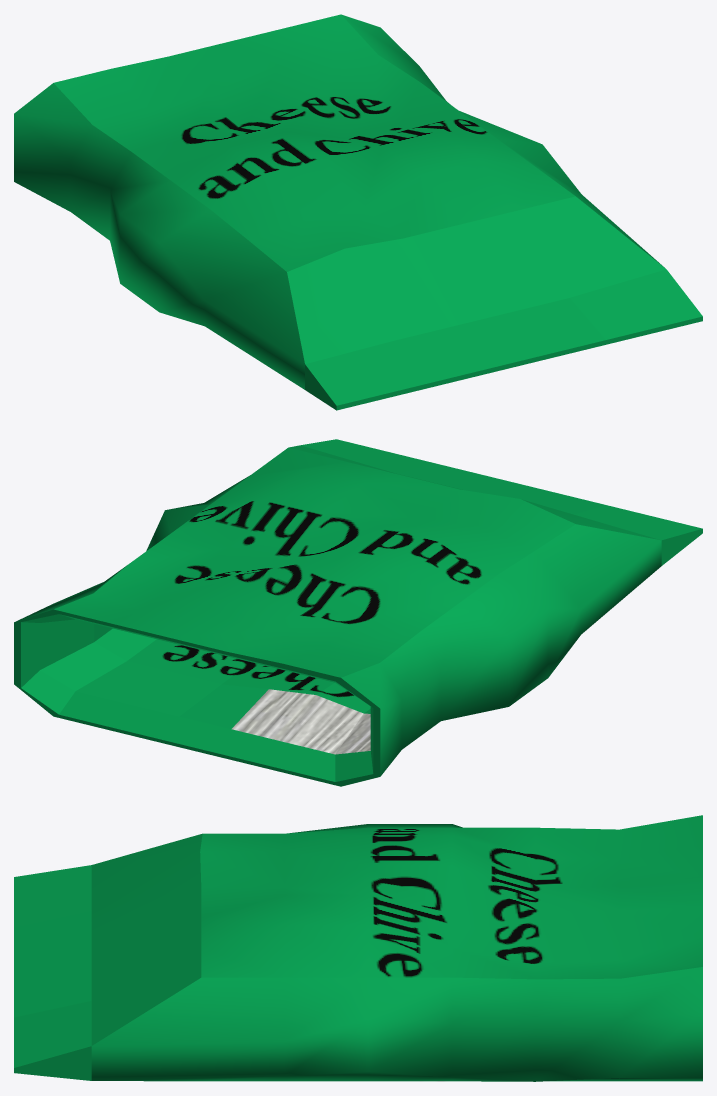
Rendered from Crisps Green.fbx.
3 renders of one model, top to bottom at view 1: azimuth 30°, elevation 25°; view 2: azimuth 150°, elevation 25°; view 3: azimuth 270°, elevation 25°, orthographic. The views are drawn at different scales.
Visible parts, largest first — view 1: pCube16; view 2: pCube16; view 3: pCube16.
Part boxes in pixels (x1,y1,x2,y2): pCube16: (14, 14, 702, 410); pCube16: (14, 439, 702, 786); pCube16: (14, 815, 702, 1081).
Bounding box in the file's own units: 26.32 × 7.75 × 38.37.
2 materials, 2 textured.
